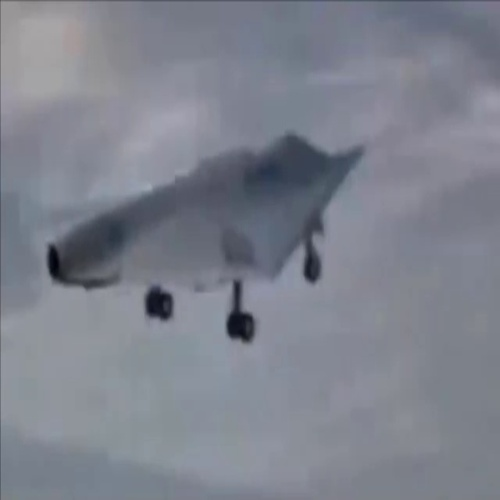uav: (44, 126, 372, 345)
